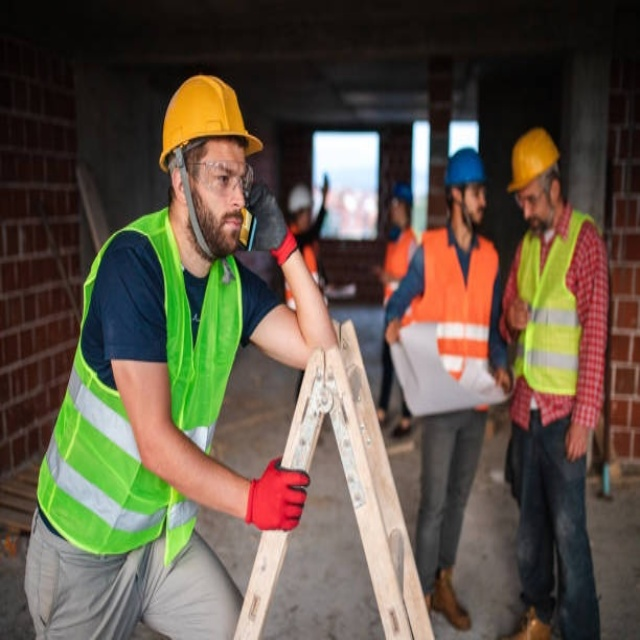Gafas: (178, 154, 254, 190), (515, 177, 552, 207)
Guantes: (245, 457, 309, 531), (245, 181, 289, 254)
Sin_guantes: (564, 420, 590, 462), (507, 296, 531, 331), (491, 364, 512, 394), (384, 317, 402, 345)
Sin_mascara: (212, 210, 244, 246)
